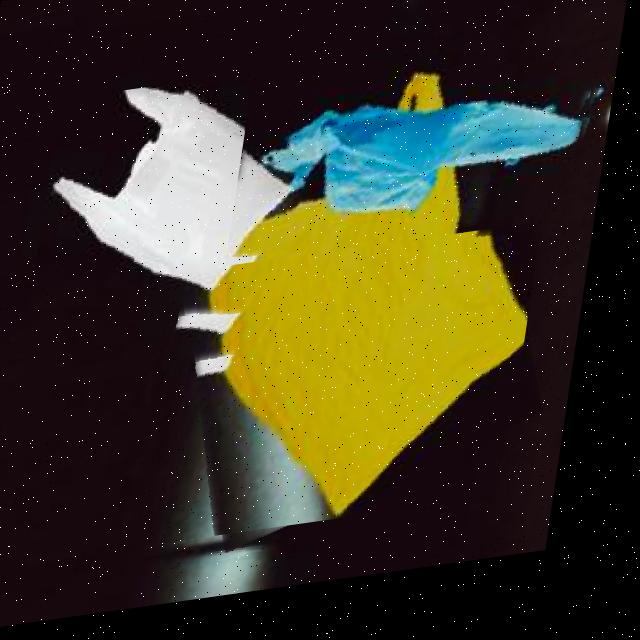litter: (140, 32, 575, 554), (234, 15, 615, 273), (33, 69, 344, 352)
